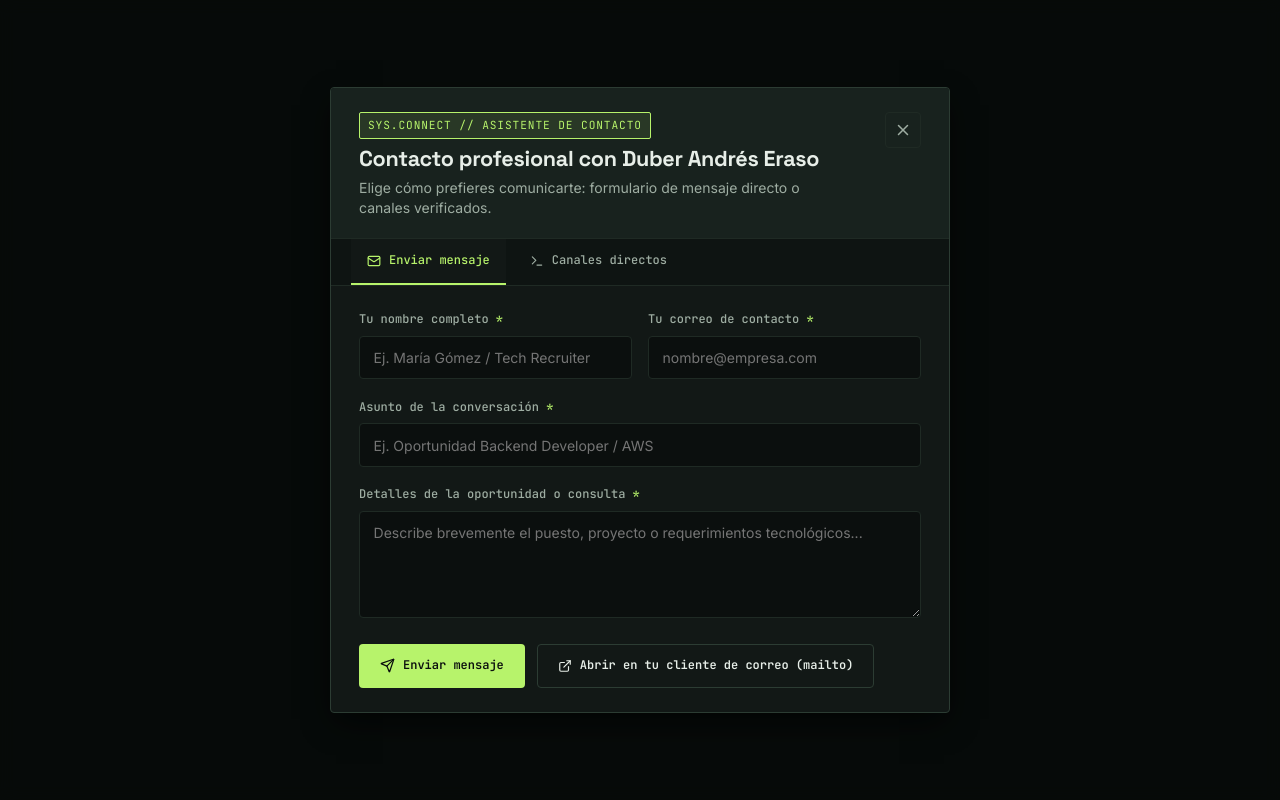
Test: Modal de Contacto Profesional y Flujo de Interacción › valida campos obligatorios y formato de correo electrónico
// Enviar formulario vacío
Step 1. Click the button "Enviar mensaje" → [442, 666], box left=359, top=644, right=525, bottom=688
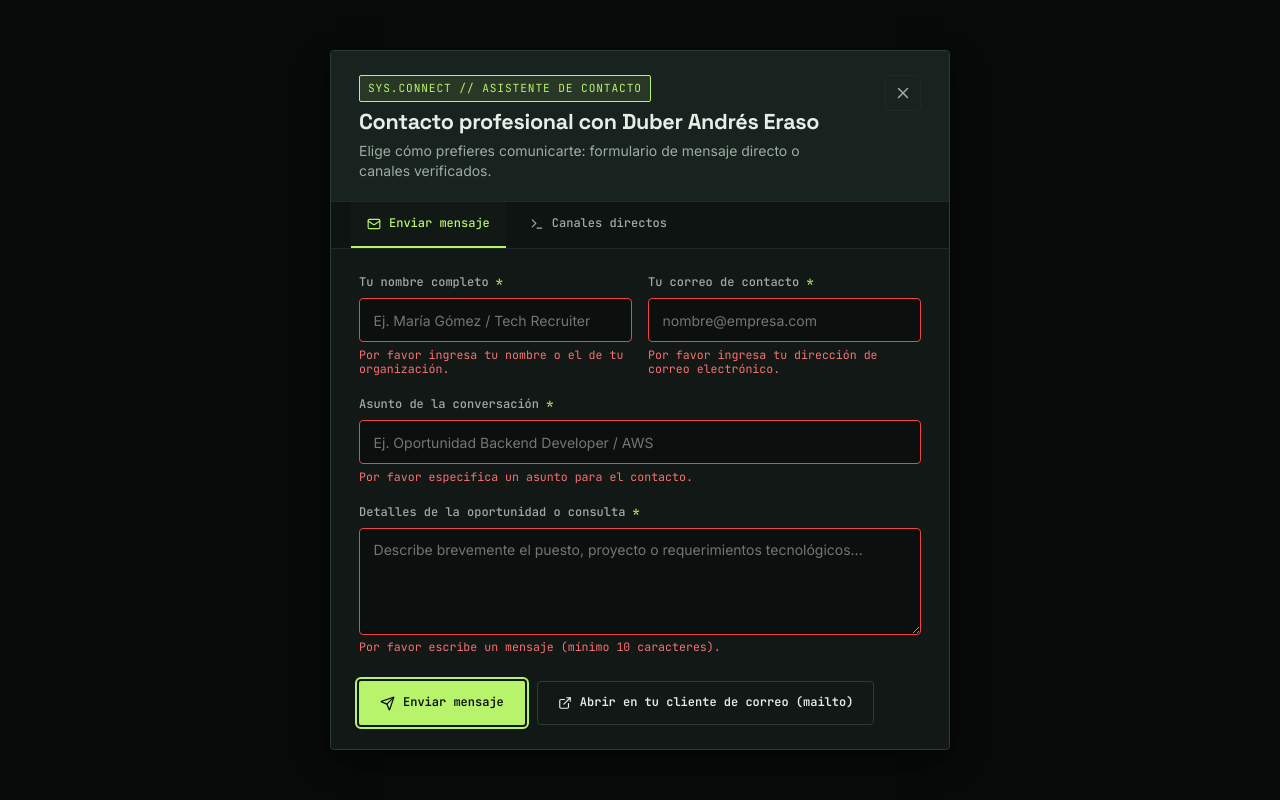
Expected: the message "Por favor ingresa tu nombre o el de tu organización." is shown, left=359, top=348, right=632, bottom=377
// Ingresar correo inválido
Step 2. Type "correo-invalido" into the field with placeholder "nombre@empresa.com" → [784, 320], box left=648, top=298, right=921, bottom=342
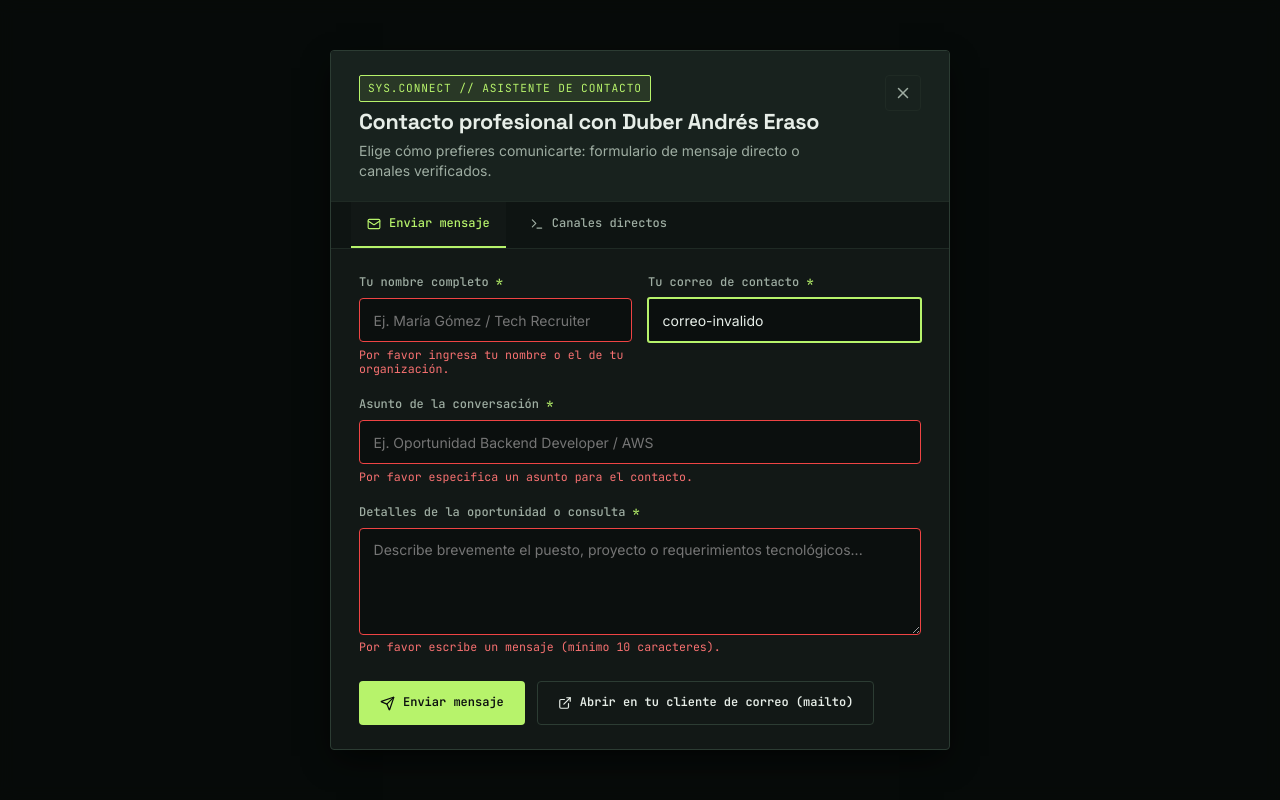
Step 3. Click the button "Enviar mensaje" → [442, 703], box left=359, top=681, right=525, bottom=725
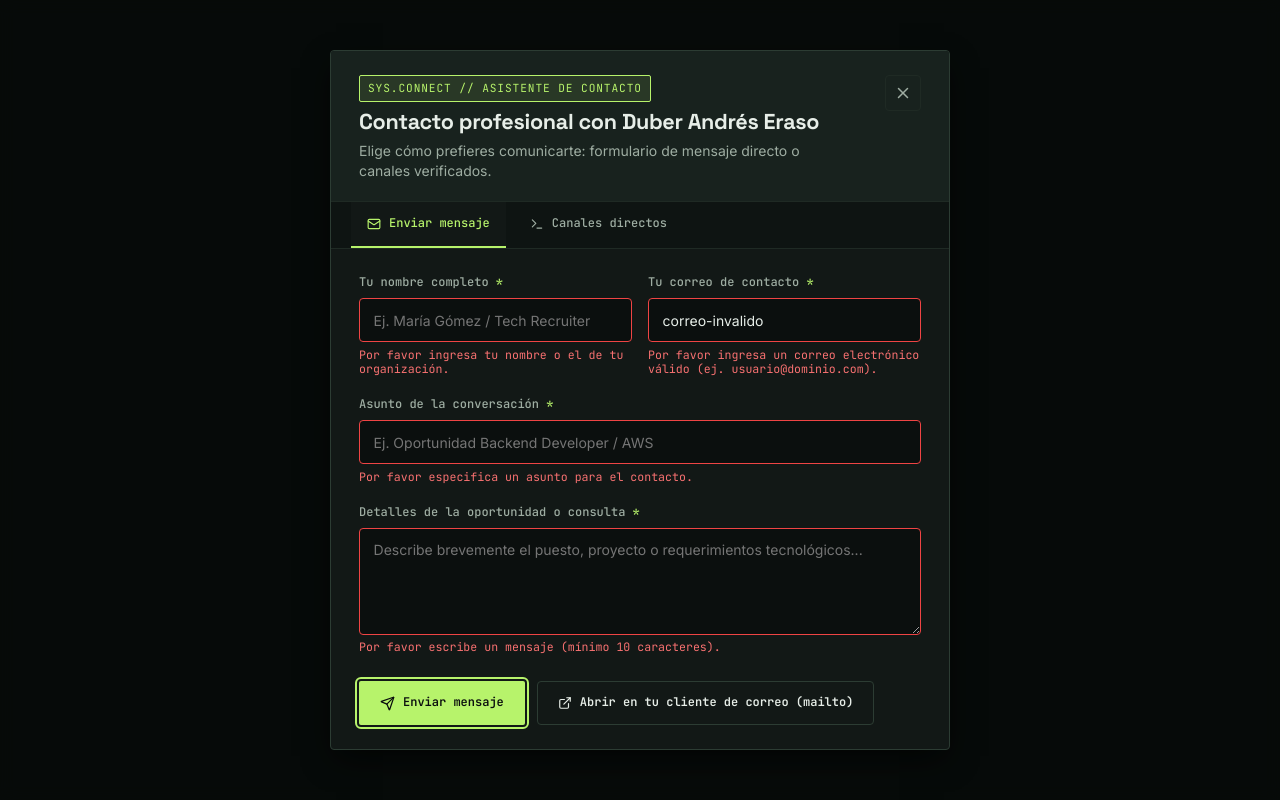
Expected: the text "Por favor ingresa un correo electrónico válido (ej. usuario@dominio.com)." is shown, left=648, top=348, right=921, bottom=377
